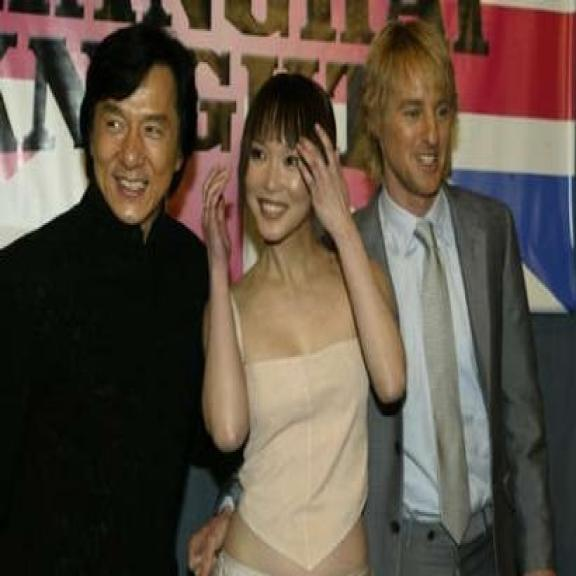face: (90, 48, 192, 228), (362, 33, 459, 203), (242, 89, 328, 250)
